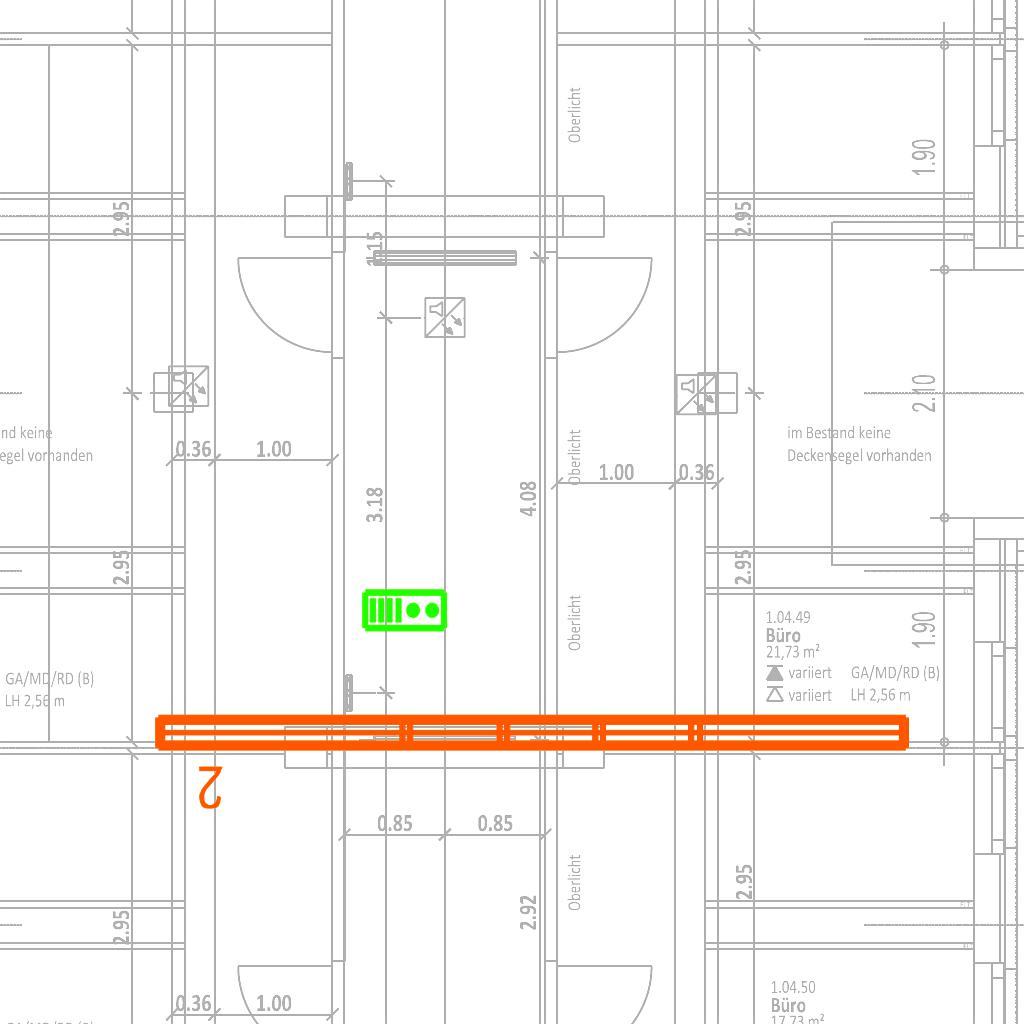Ambulanz_Pendelleuchte_LED: (146, 702, 920, 814)
Gegensprechanlage_mit_Video: (361, 586, 449, 633)
